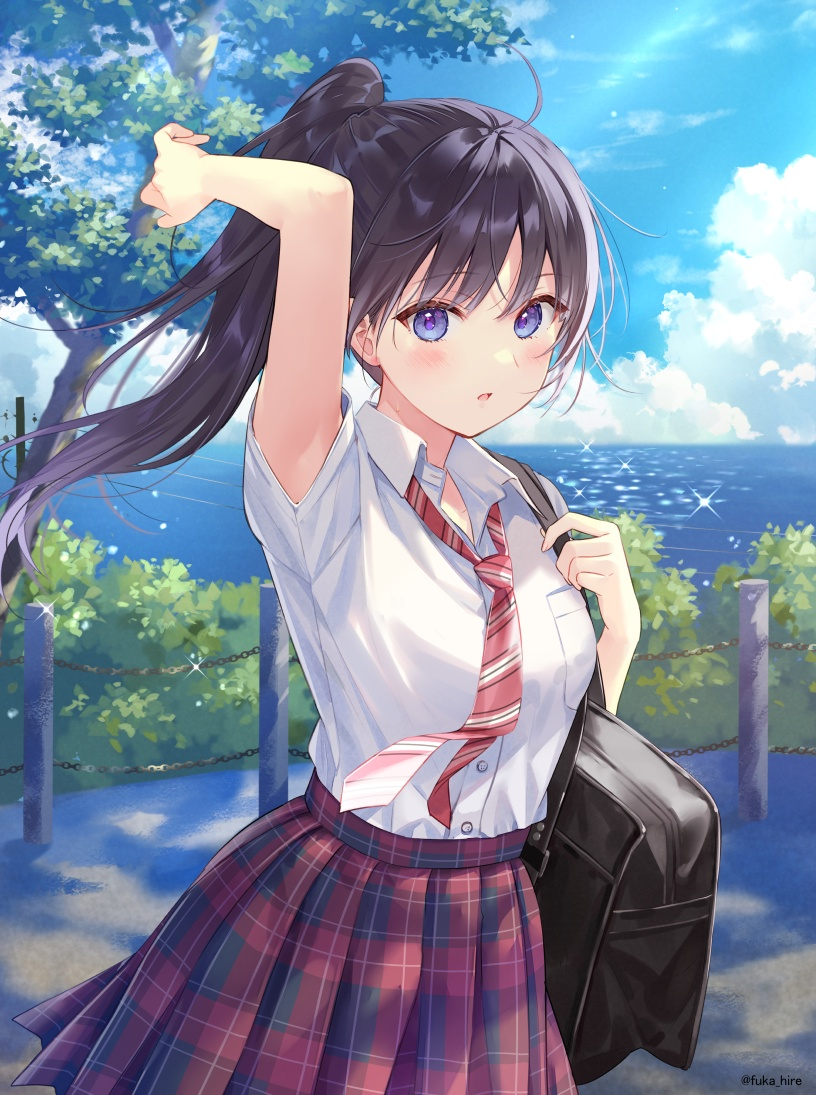纸片人正脸: (323, 90, 615, 451)
